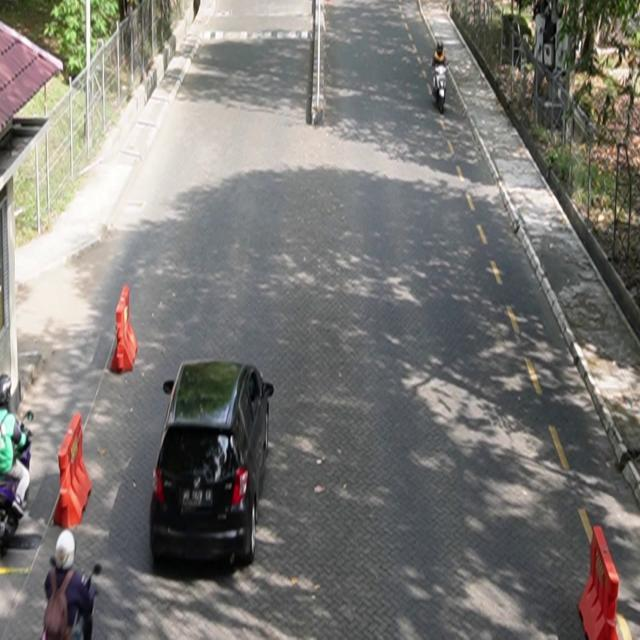car: (149, 358, 275, 570)
